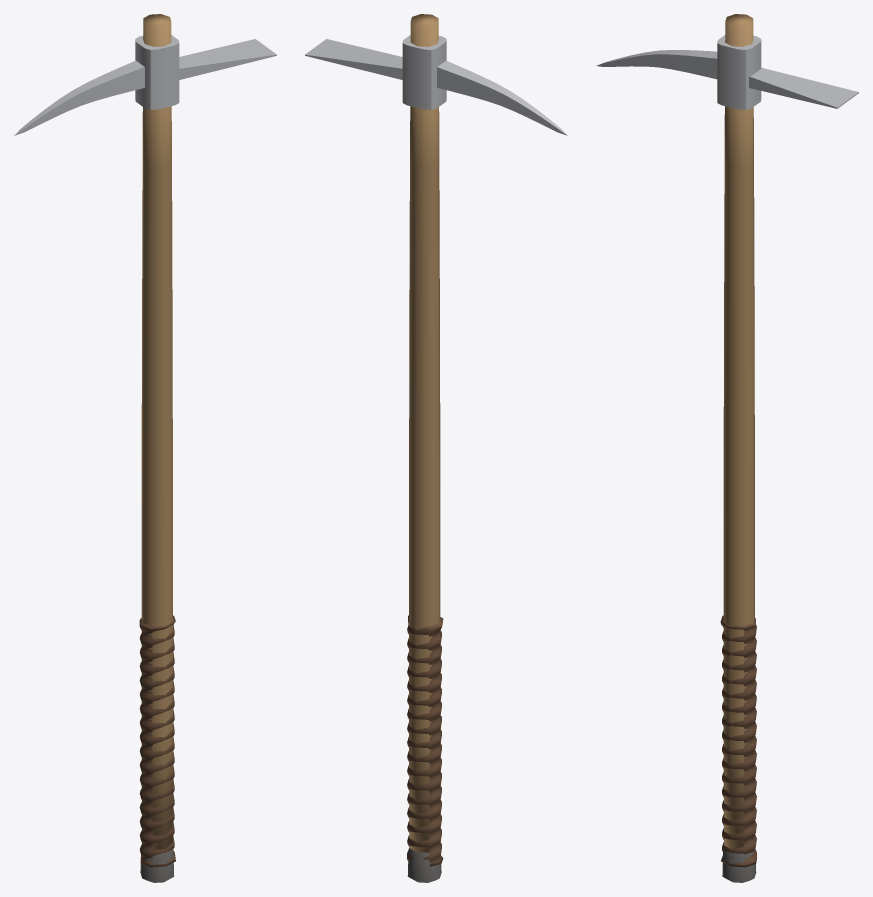
Rendered from mattock.glb.
The picture shows the model from 3 angles, left to right: view 1: azimuth 30°, elevation 25°; view 2: azimuth 150°, elevation 25°; view 3: azimuth 330°, elevation 25°; orthographic projection.
Visible parts, largest first — view 1: mattock; view 2: mattock; view 3: mattock.
Boxes of the visible parts, x1,y1,x2,y2 form: mattock: (14,14,276,882); mattock: (305,14,567,882); mattock: (596,14,858,882).
Size of the model in its own units: 0.88 by 2.86 by 0.13.
